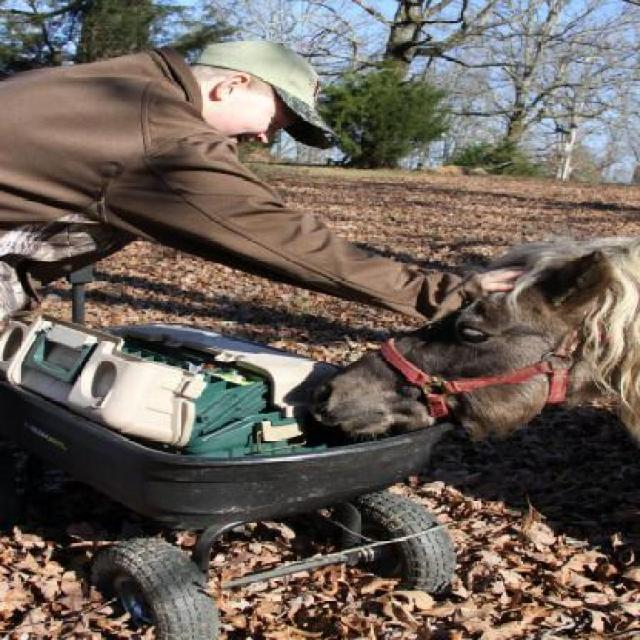Person: (17, 37, 437, 366)
